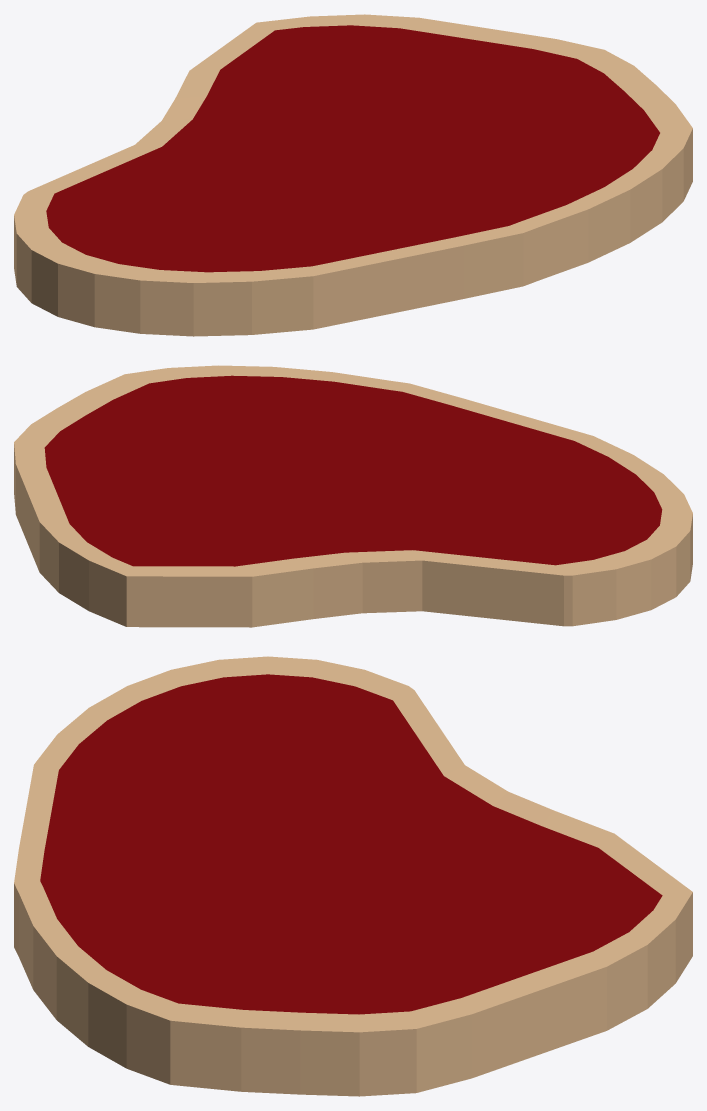
Rendered from steak_uncooked.fbx.
3 views of the same model, one above another, from view 1: azimuth 30°, elevation 25°; view 2: azimuth 150°, elevation 25°; view 3: azimuth 270°, elevation 25° (orthographic). The views are drawn at different scales.
Parts seen in each view (by area): view 1: Cylinder; view 2: Cylinder; view 3: Cylinder.
Boxes of the visible parts, box(x1,y1,x2,y2) form: Cylinder: box(14, 14, 692, 336); Cylinder: box(14, 365, 692, 627); Cylinder: box(14, 656, 692, 1096).
Size of the model in its own units: 409 by 32.59 by 313.
